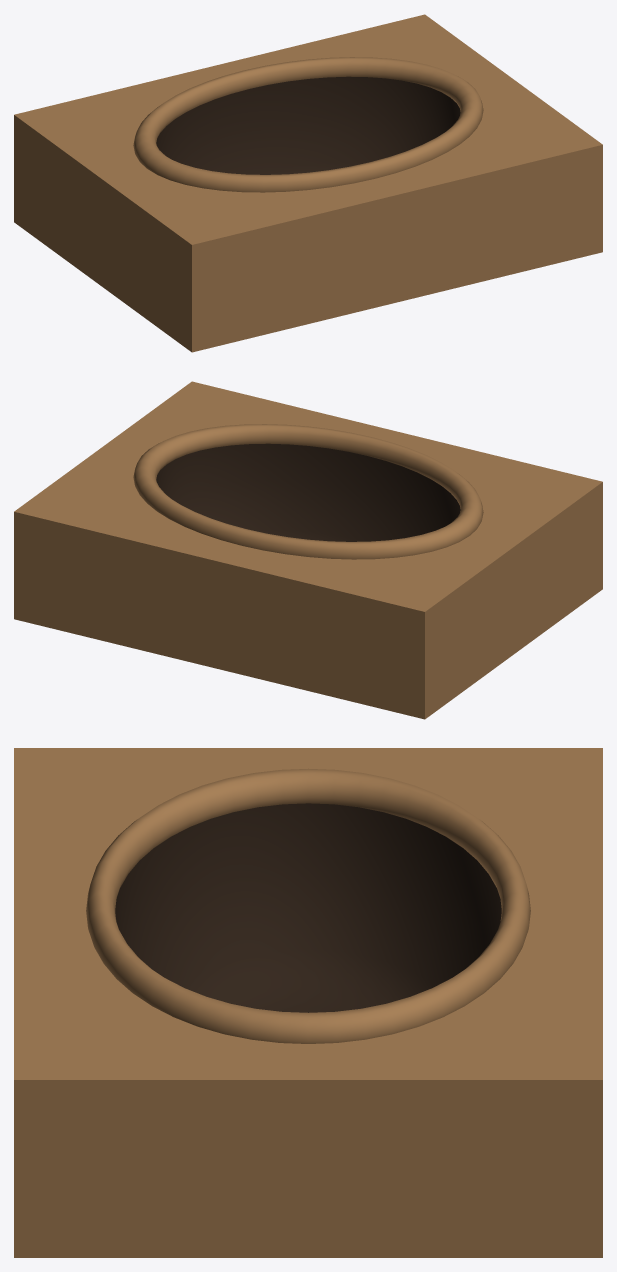
Rendered from ground-hole.glb.
The picture shows the model from 3 angles, top to bottom: view 1: azimuth 30°, elevation 25°; view 2: azimuth 150°, elevation 25°; view 3: azimuth 270°, elevation 25°; orthographic projection. The views are drawn at different scales.
Visible parts, largest first — view 1: Hole_surrounding_ground, Hole_descending_interior, Hole_soil_rim; view 2: Hole_surrounding_ground, Hole_descending_interior, Hole_soil_rim; view 3: Hole_surrounding_ground, Hole_descending_interior, Hole_soil_rim.
Part boxes in pixels (x1,y1,x2,y2): Hole_surrounding_ground: (14, 14, 602, 352); Hole_descending_interior: (156, 76, 460, 174); Hole_soil_rim: (133, 57, 483, 192); Hole_surrounding_ground: (14, 381, 602, 719); Hole_descending_interior: (156, 443, 460, 541); Hole_soil_rim: (133, 424, 483, 559); Hole_surrounding_ground: (14, 748, 602, 1257); Hole_descending_interior: (115, 803, 501, 1012); Hole_soil_rim: (86, 768, 530, 1043).
Bounding box in the file's own units: 1.36 × 0.3793 × 1.02.
